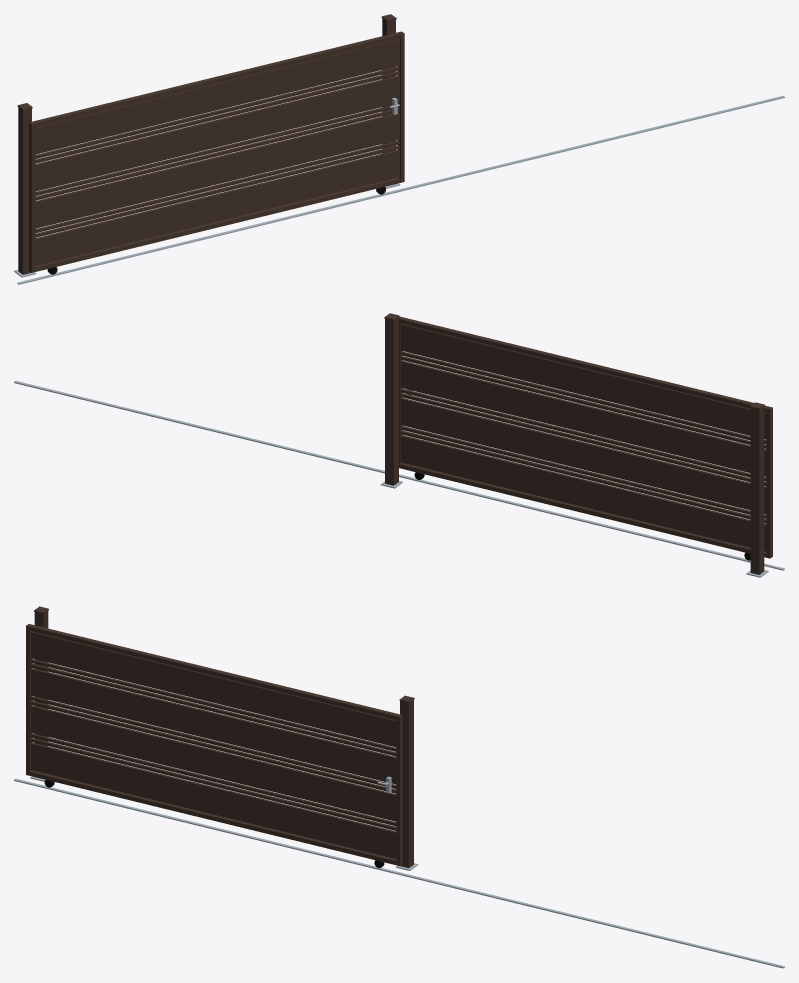
Rendered from 03-klizna.glb.
The picture shows the model from 3 angles, top to bottom: view 1: azimuth 30°, elevation 25°; view 2: azimuth 150°, elevation 25°; view 3: azimuth 330°, elevation 25°; orthographic projection.
Parts seen in each view (by area): view 1: Ispuna_siroka.016, Ispuna_siroka.017, Ispuna_siroka.018, Ispuna_siroka.019, Ram_gornji.014, Okov_vodilica_demo.002, Ram_donji.014, Stub_levi.011, Ispuna_uska.029, Ispuna_uska.025, Ispuna_uska.028, Ispuna_uska.024 (+4 smaller); view 2: Ispuna_siroka.018, Ispuna_siroka.016, Ispuna_siroka.017, Ispuna_siroka.019, Ram_gornji.014, Okov_vodilica_demo.002, Stub_levi.011, Ram_donji.014, Stub_desni.011, Ispuna_uska.026, Ispuna_uska.028, Ispuna_uska.024 (+4 smaller); view 3: Ispuna_siroka.016, Ispuna_siroka.017, Ispuna_siroka.018, Ispuna_siroka.019, Ram_gornji.014, Okov_vodilica_demo.002, Ram_donji.014, Stub_desni.011, Ispuna_uska.028, Ispuna_uska.024, Ispuna_uska.029, Ispuna_uska.025 (+4 smaller).
Part boxes in pixels (x1,y1,x2,y2): Ispuna_siroka.016: [35, 149, 399, 265]; Ispuna_siroka.017: [35, 112, 399, 228]; Ispuna_siroka.018: [35, 75, 399, 191]; Ispuna_siroka.019: [35, 39, 399, 154]; Ram_gornji.014: [33, 32, 400, 127]; Okov_vodilica_demo.002: [17, 96, 784, 284]; Ram_donji.014: [35, 177, 400, 271]; Stub_levi.011: [18, 107, 31, 274]; Ispuna_uska.029: [35, 66, 399, 158]; Ispuna_uska.025: [35, 140, 399, 232]; Ispuna_uska.028: [35, 71, 399, 163]; Ispuna_uska.024: [35, 145, 399, 237]; Ispuna_siroka.018: [400, 360, 766, 476]; Ispuna_siroka.016: [400, 435, 766, 551]; Ispuna_siroka.017: [400, 397, 766, 513]; Ispuna_siroka.019: [400, 323, 766, 439]; Ram_gornji.014: [400, 317, 768, 412]; Okov_vodilica_demo.002: [14, 381, 784, 570]; Stub_levi.011: [750, 407, 764, 574]; Ram_donji.014: [400, 462, 766, 557]; Stub_desni.011: [385, 317, 398, 485]; Ispuna_uska.026: [400, 393, 766, 485]; Ispuna_uska.028: [400, 356, 766, 448]; Ispuna_uska.024: [400, 430, 766, 523]; Ispuna_siroka.016: [30, 742, 396, 858]; Ispuna_siroka.017: [30, 705, 396, 821]; Ispuna_siroka.018: [30, 668, 396, 784]; Ispuna_siroka.019: [30, 631, 396, 747]; Ram_gornji.014: [30, 625, 398, 719]; Okov_vodilica_demo.002: [14, 778, 784, 968]; Ram_donji.014: [30, 770, 396, 864]; Stub_desni.011: [400, 700, 413, 868]; Ispuna_uska.028: [30, 663, 396, 756]; Ispuna_uska.024: [30, 738, 396, 830]; Ispuna_uska.029: [30, 659, 396, 751]; Ispuna_uska.025: [30, 733, 396, 826].
Bounding box in the file's own units: 8.63 × 1.8 × 0.38.
